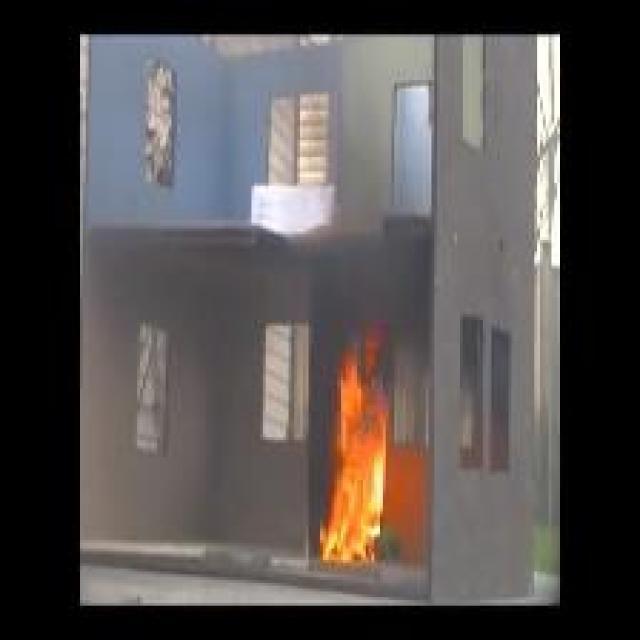fire: (324, 326, 393, 568)
